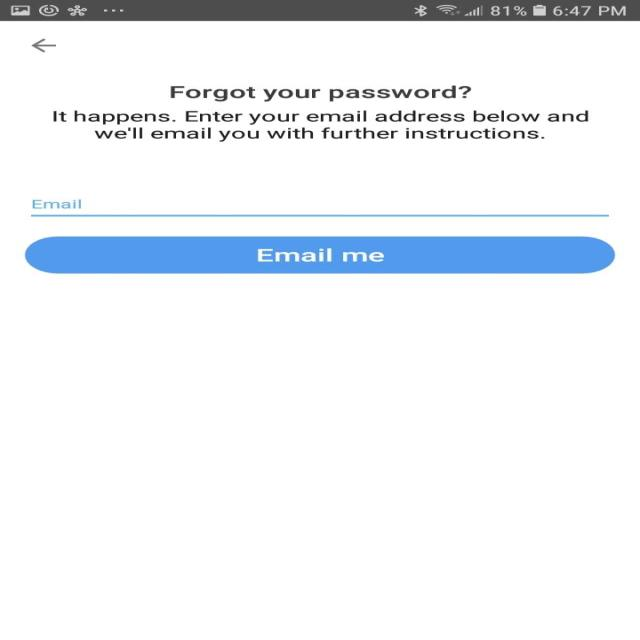EditText: (30, 199, 609, 217)
Icon: (31, 38, 56, 52)
Text: (54, 111, 588, 142), (169, 85, 472, 102), (32, 199, 81, 209)
TextButton: (25, 236, 615, 274)
